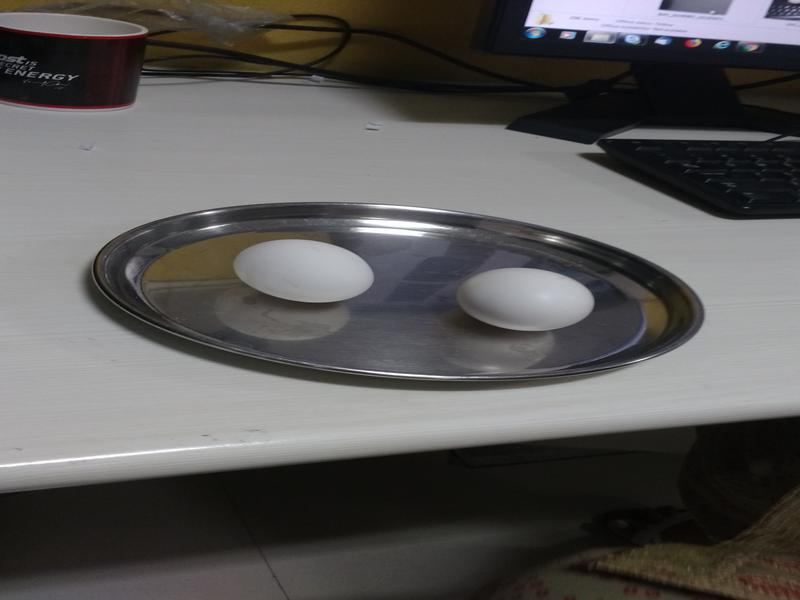egg: (232, 234, 379, 306)
